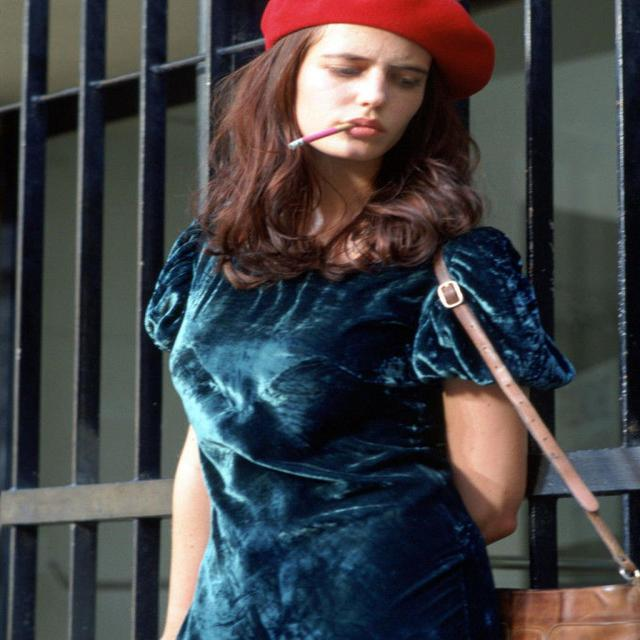smoking: (268, 3, 447, 174)
